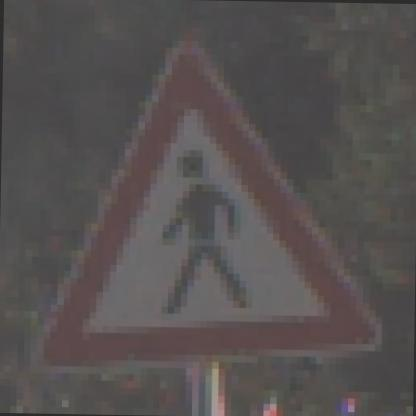crosswalk: (25, 28, 392, 384)
